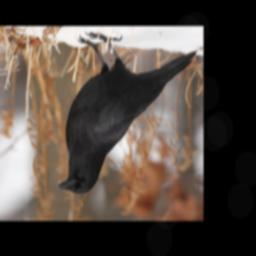Crow: (54, 31, 198, 198)
